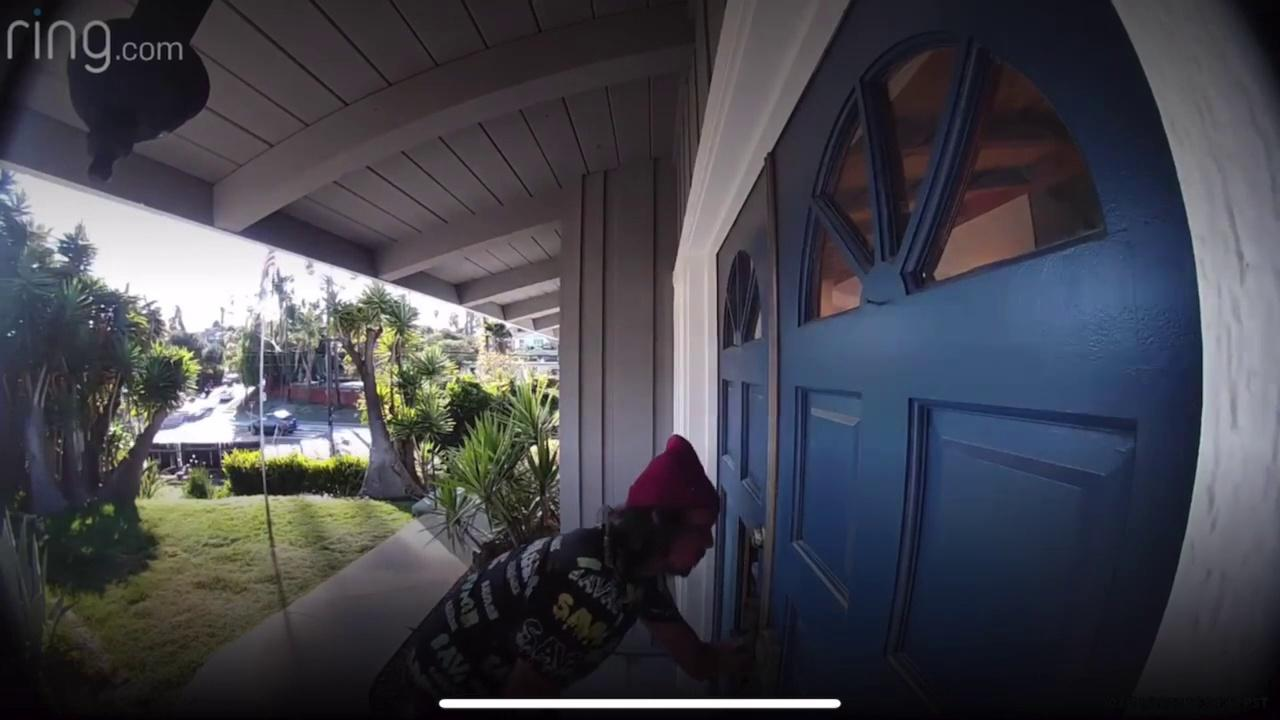suspicion: (362, 410, 796, 712)
